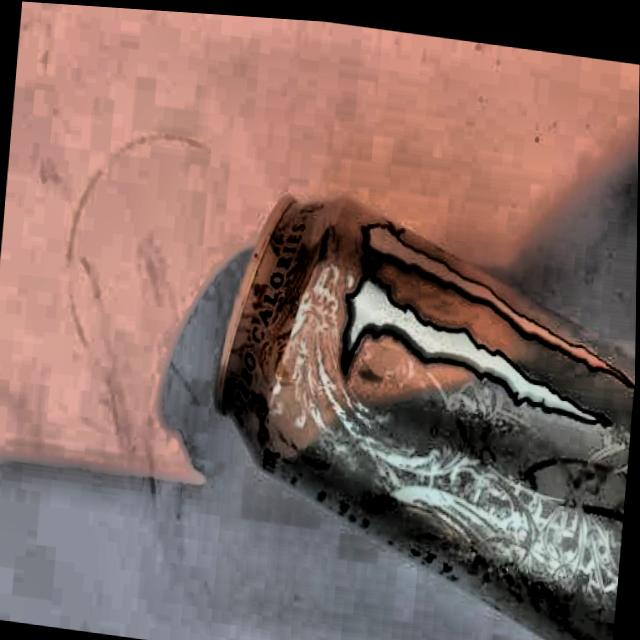Cans: (166, 153, 638, 640)
